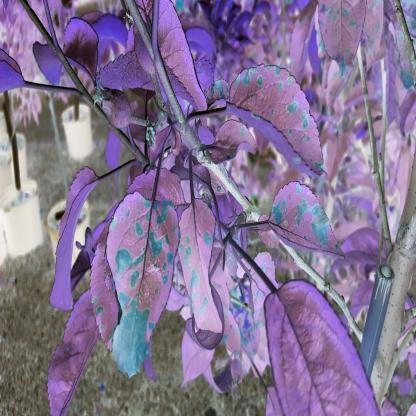Apple rust leaf: (100, 188, 184, 388), (222, 60, 340, 187), (179, 197, 234, 342), (270, 182, 347, 266), (314, 1, 372, 85)
